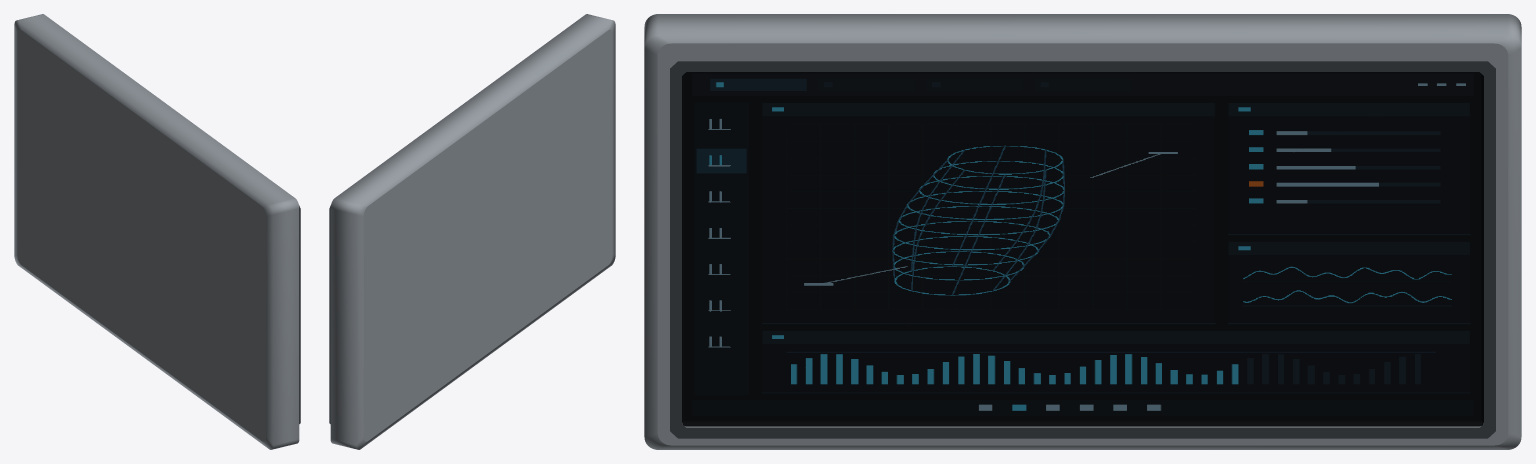
Rendered from ZH_ENV_Signal_Wall_Monitor.fbx.
3 renders of one model, left to right at view 1: azimuth 30°, elevation 25°; view 2: azimuth 150°, elevation 25°; view 3: azimuth 270°, elevation 25°, orthographic. The views are drawn at different scales.
Parts seen in each view (by area): view 1: Diagnostics | wall monitor.001, Terminal | signal fine bezel.001; view 2: Diagnostics | wall monitor.001, Terminal | signal fine bezel.001; view 3: Diagnostics | black screen.001, Diagnostics | wall monitor.001, Terminal | signal fine bezel.001.
Part boxes in pixels (<box>): Diagnostics | wall monitor.001: <box>14,14,299,449</box>; Terminal | signal fine bezel.001: <box>299,205,300,423</box>; Diagnostics | wall monitor.001: <box>330,14,615,449</box>; Terminal | signal fine bezel.001: <box>329,205,330,423</box>; Diagnostics | black screen.001: <box>682,72,1483,426</box>; Diagnostics | wall monitor.001: <box>644,14,1521,449</box>; Terminal | signal fine bezel.001: <box>670,61,1495,438</box>.
Size of the model in its own units: 0.134 by 0.85 by 1.63.
3 materials, 1 textured.
